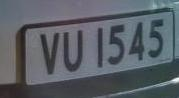1: (90, 22, 110, 73)
4: (127, 14, 148, 68)
5: (104, 19, 129, 71), (145, 15, 167, 65)
U: (60, 25, 88, 77)
V: (35, 28, 64, 79)
